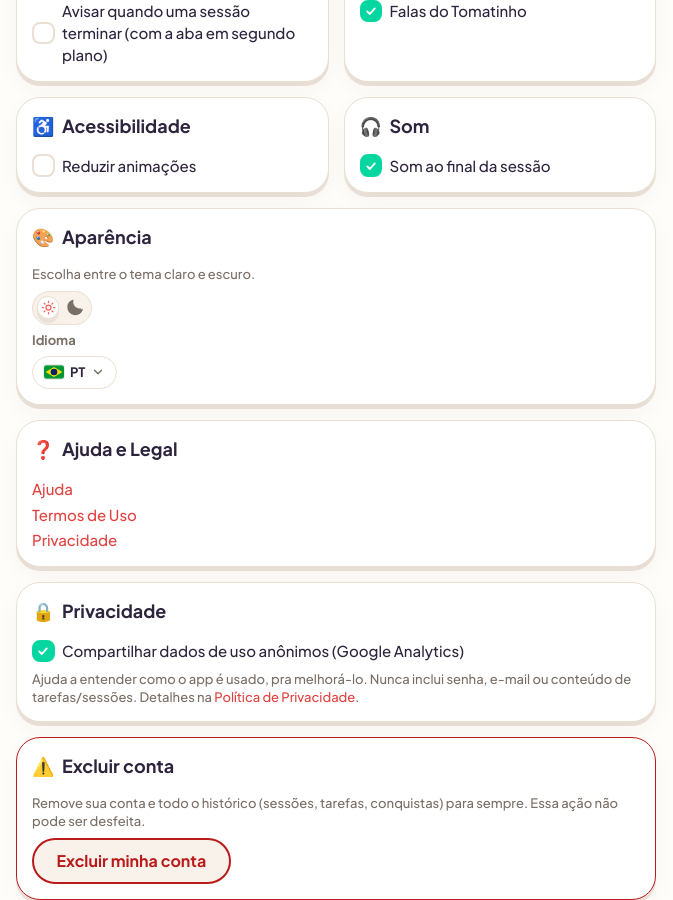
it: ConfiguracoesPage › mode: account › "Excluir minha conta" revela o formulário de confirmação de senha
(page scrolled)
Click the button "Excluir minha conta": (131, 861) [32,838,231,884]
(page scrolled)
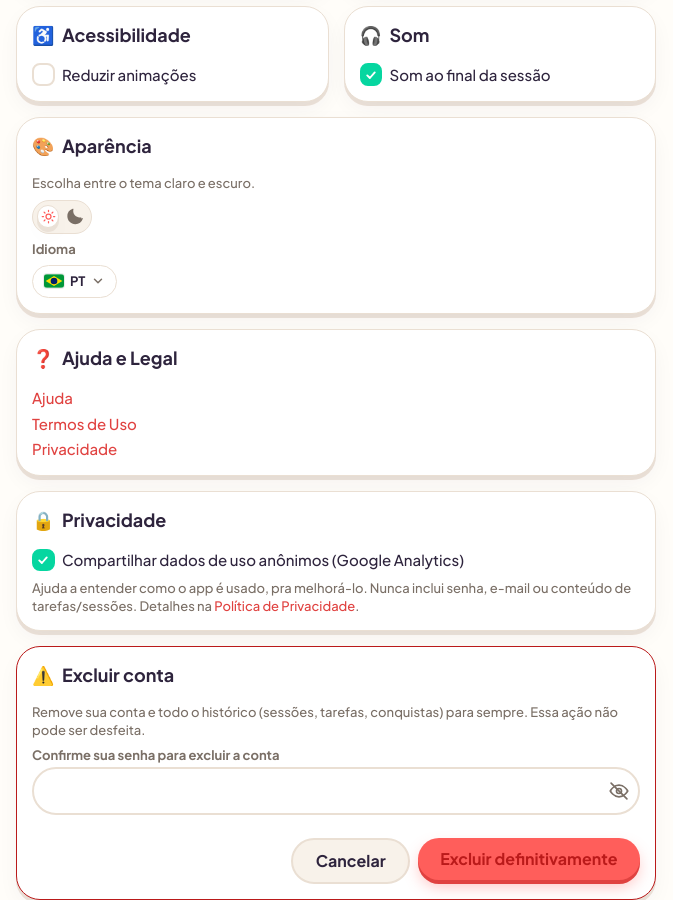
Now the password field labelled "Confirme sua senha para excluir a conta" is shown, box [32,766,640,815]
